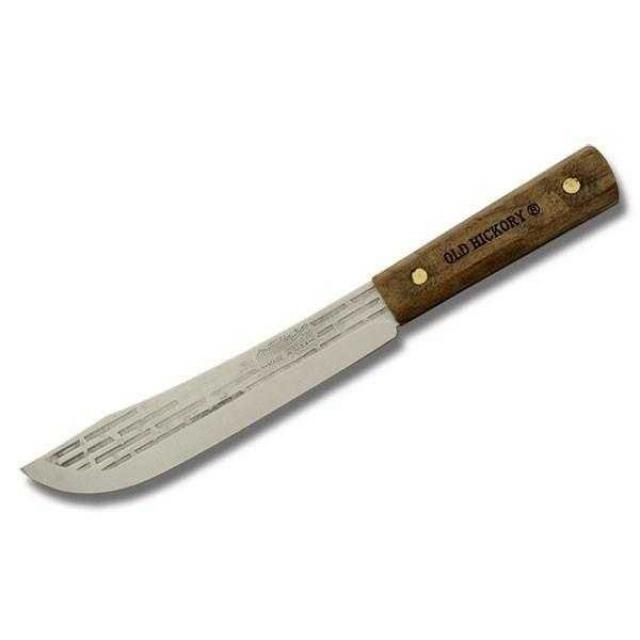knife: (13, 138, 639, 511)
